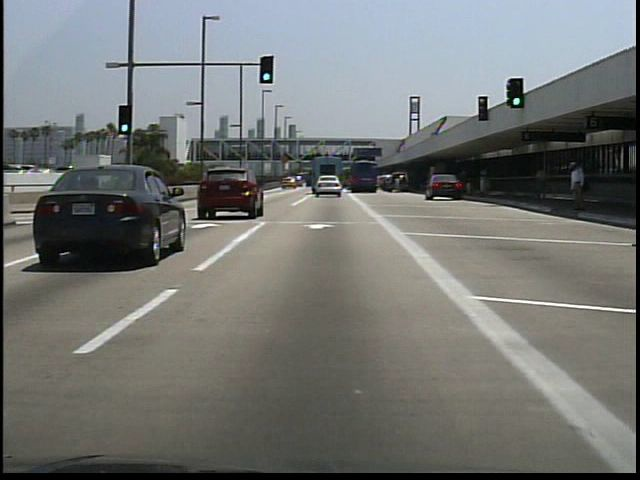person: (564, 156, 585, 216), (530, 157, 551, 205)
